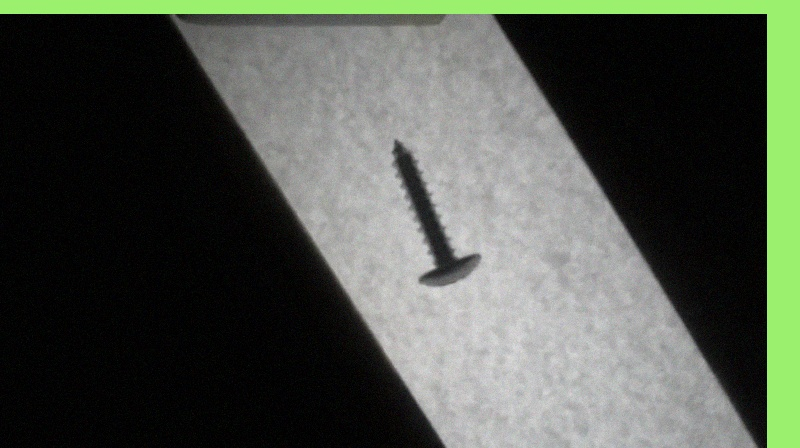S003: (388, 138, 483, 288)
